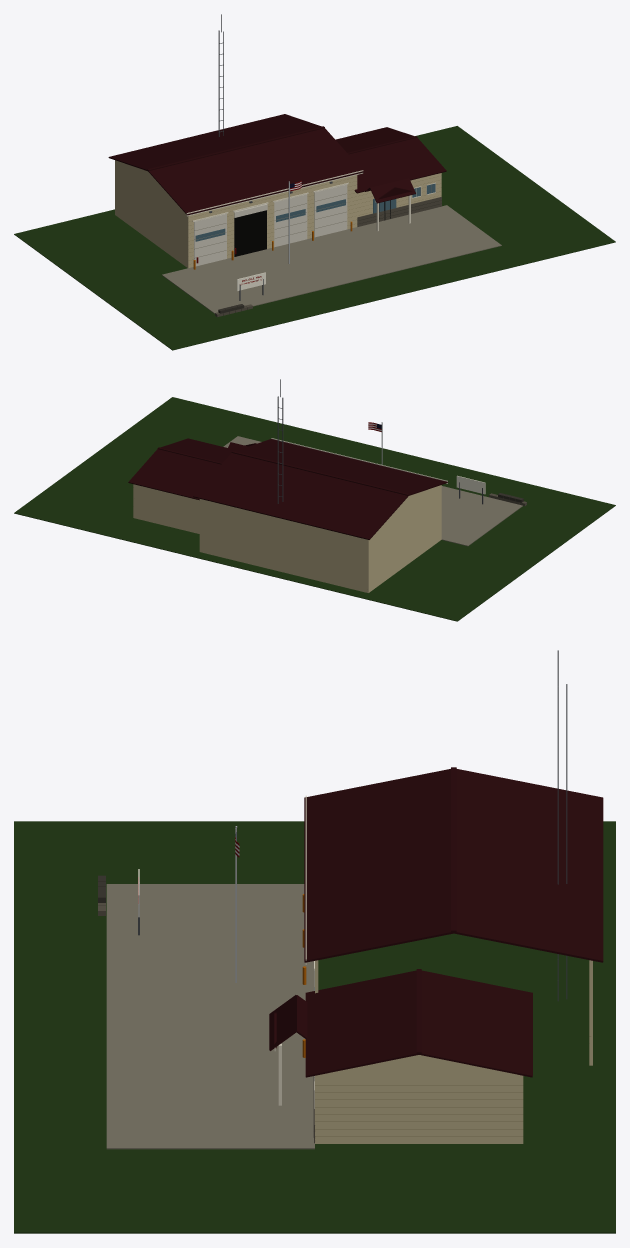
The model's file is RossvilleFireStation.obj.
3 views of the same model, one above another, from view 1: azimuth 30°, elevation 25°; view 2: azimuth 150°, elevation 25°; view 3: azimuth 270°, elevation 25° (orthographic). The views are drawn at different scales.
Parts seen in each view (by area): view 1: RossvilleFireStation; view 2: RossvilleFireStation; view 3: RossvilleFireStation.
Part boxes in pixels (x1=…): RossvilleFireStation: x1=14, y1=14, x2=615, y2=350; RossvilleFireStation: x1=14, y1=379, x2=615, y2=621; RossvilleFireStation: x1=14, y1=650, x2=615, y2=1233.
Size of the model in its own units: 42 by 16.68 by 26.
